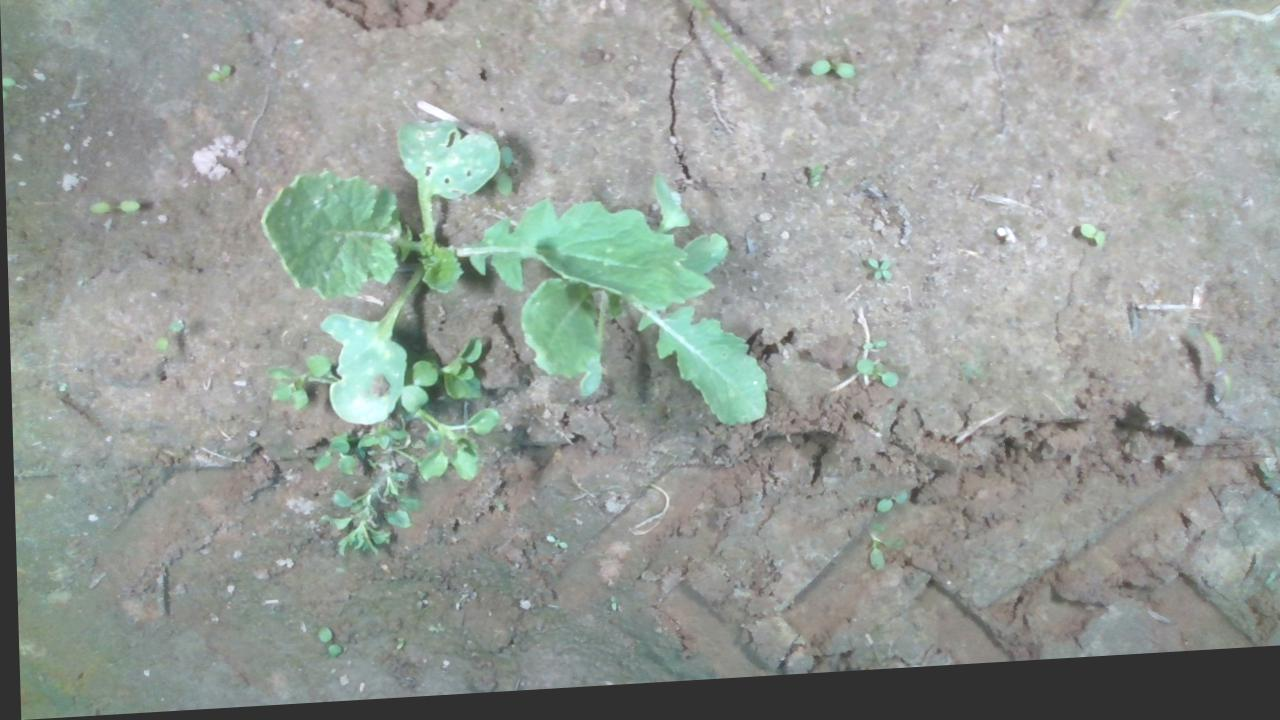weed: (1197, 341, 1230, 423), (851, 366, 897, 400), (149, 317, 183, 356), (806, 66, 855, 91), (84, 198, 139, 217), (312, 628, 339, 663), (862, 264, 890, 294), (1075, 234, 1105, 260), (871, 499, 904, 522), (203, 65, 231, 86), (857, 349, 885, 362)
